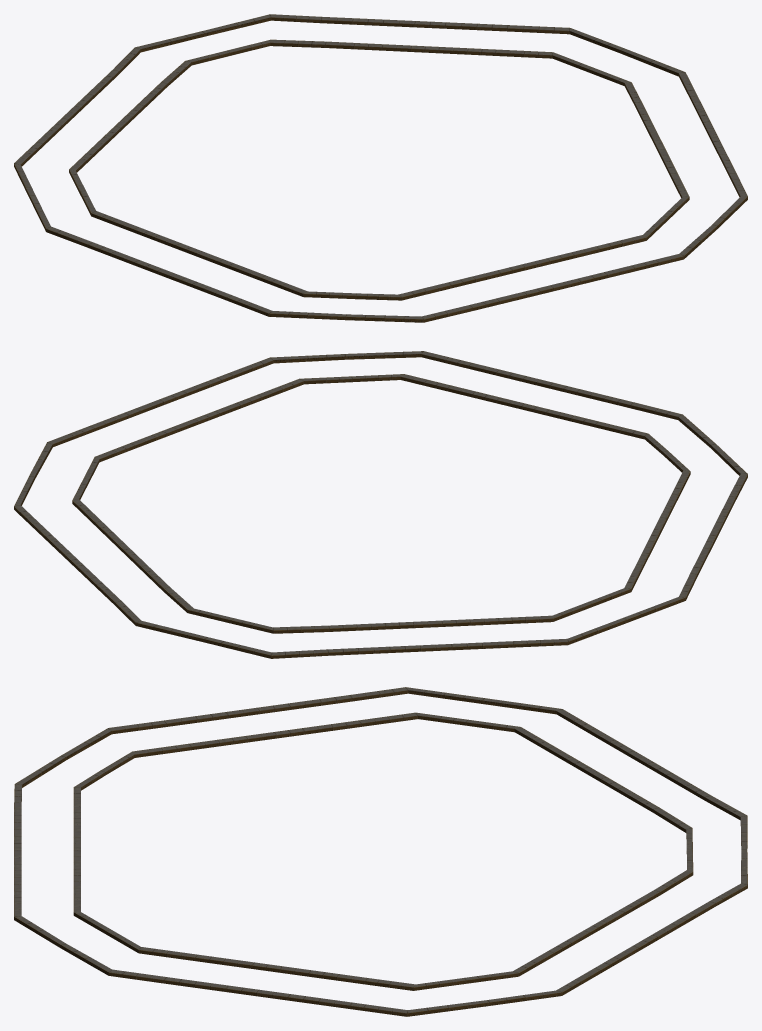
The model's file is Time limit_Ground_03.FBX.
3 renders of one model, top to bottom at view 1: azimuth 30°, elevation 25°; view 2: azimuth 150°, elevation 25°; view 3: azimuth 270°, elevation 25°, orthographic. The views are drawn at different scales.
Visible parts, largest first — view 1: Time limit_Ground_03; view 2: Time limit_Ground_03; view 3: Time limit_Ground_03.
Boxes of the visible parts, x1,y1,x2,y2 form: Time limit_Ground_03: (14, 14, 747, 322); Time limit_Ground_03: (14, 351, 747, 658); Time limit_Ground_03: (14, 687, 747, 1016).
Size of the model in its own units: 131 by 0.6551 by 124.
